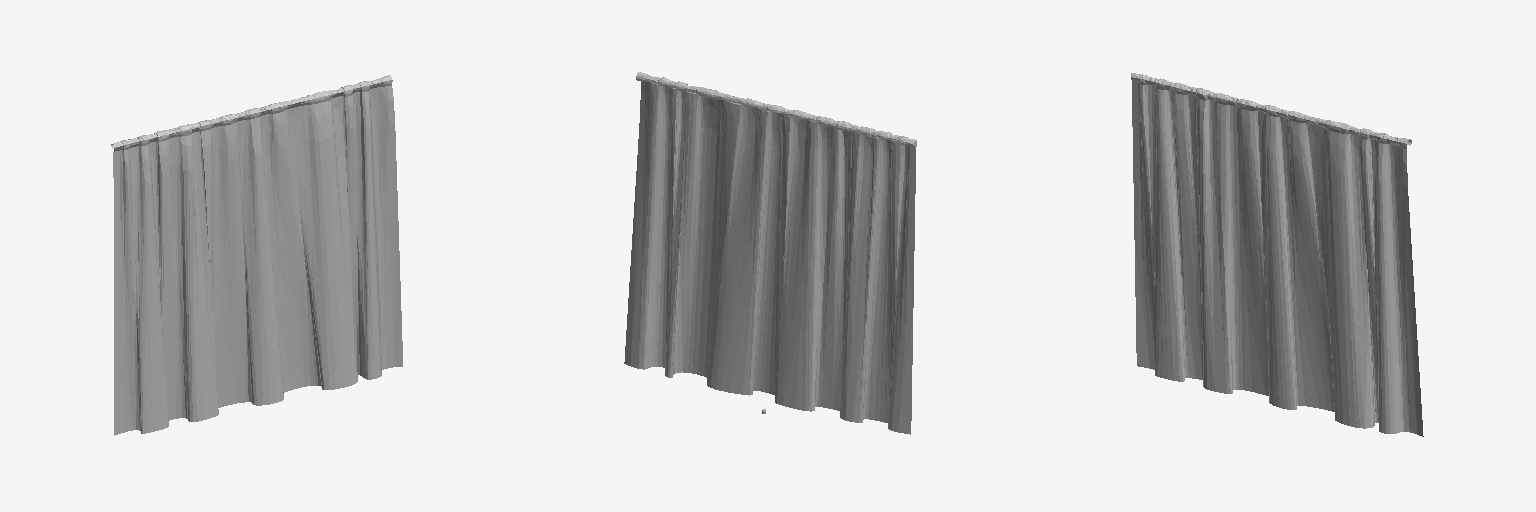
The model's file is Curtain Model Loft tool.obj.
The picture shows the model from 3 angles: view 1: azimuth 30°, elevation 25°; view 2: azimuth 150°, elevation 25°; view 3: azimuth 330°, elevation 25°; orthographic projection.
Visible parts, largest first — view 1: Curtain_Model_Loft_tool; view 2: Curtain_Model_Loft_tool; view 3: Curtain_Model_Loft_tool.
Part boxes in pixels (left/top/right/bottom): Curtain_Model_Loft_tool: left=111, top=75, right=402, bottom=435; Curtain_Model_Loft_tool: left=624, top=72, right=916, bottom=434; Curtain_Model_Loft_tool: left=1131, top=73, right=1423, bottom=436.
Bounding box in the file's own units: 22.52 × 22.28 × 2.38.